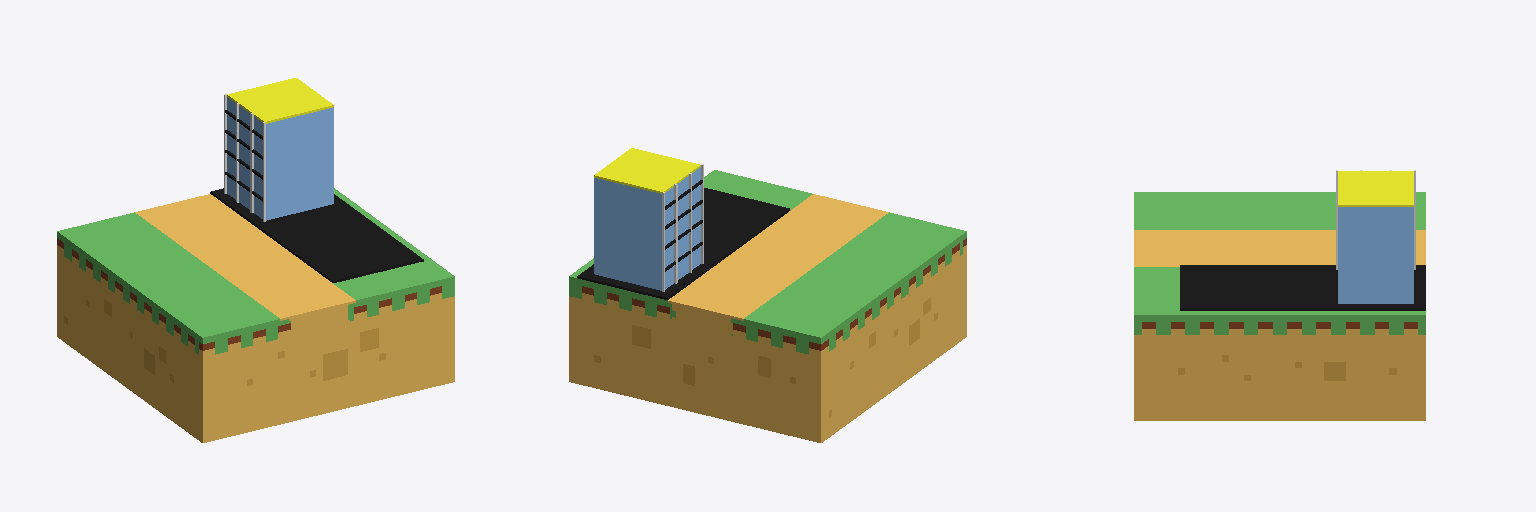
The picture shows the model from 3 angles: view 1: azimuth 30°, elevation 25°; view 2: azimuth 150°, elevation 25°; view 3: azimuth 270°, elevation 25°; orthographic projection.
Parts seen in each view (by area): view 1: object 1; view 2: object 1; view 3: object 1.
Part boxes in pixels (bbox=[...]): object 1: bbox=[57, 78, 454, 442]; object 1: bbox=[569, 148, 966, 442]; object 1: bbox=[1134, 170, 1425, 420].
Size of the model in its own units: 12 by 9.4 by 12.
1 materials, 1 textured.